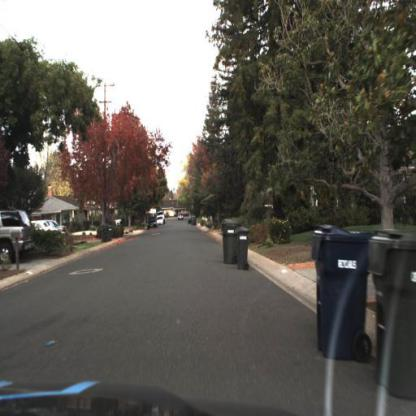car: (1, 209, 32, 266), (30, 216, 56, 243), (48, 218, 69, 235), (57, 220, 69, 238), (156, 211, 167, 227), (147, 219, 158, 232), (189, 213, 198, 225), (179, 213, 185, 221)
